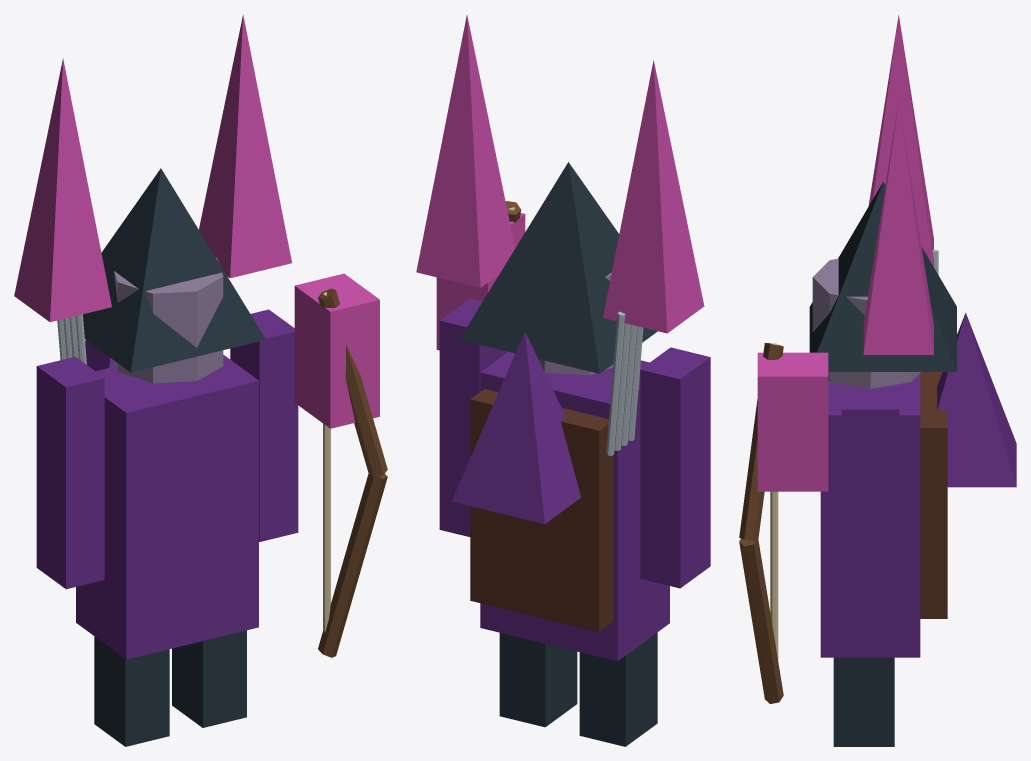
File: ranged.obj
3 renders of one model, left to right at view 1: azimuth 30°, elevation 25°; view 2: azimuth 150°, elevation 25°; view 3: azimuth 270°, elevation 25°, orthographic. The views are drawn at different scales.
Visible parts, largest first — view 1: ranged; view 2: ranged; view 3: ranged.
Boxes of the visible parts, <box> form: ranged: <box>14,14,387,746</box>; ranged: <box>416,15,710,746</box>; ranged: <box>739,15,1016,746</box>.
Size of the model in its own units: 0.8928 by 2.07 by 0.7877.
